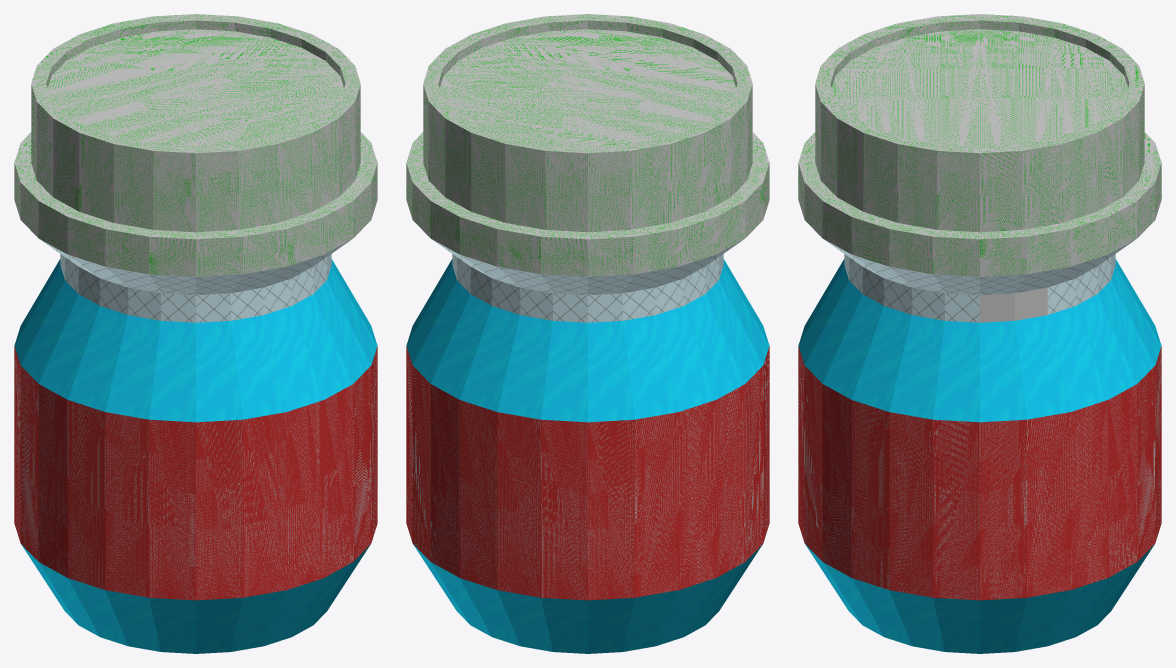
The picture shows the model from 3 angles, left to right: view 1: azimuth 30°, elevation 25°; view 2: azimuth 150°, elevation 25°; view 3: azimuth 270°, elevation 25°; orthographic projection.
Visible parts, largest first — view 1: mesh1_mesh1-geometry; view 2: mesh1_mesh1-geometry; view 3: mesh1_mesh1-geometry.
Part boxes in pixels (left/top/right/bottom): mesh1_mesh1-geometry: left=14, top=14, right=377, bottom=653; mesh1_mesh1-geometry: left=406, top=14, right=769, bottom=653; mesh1_mesh1-geometry: left=798, top=14, right=1161, bottom=653.
Bounding box in the file's own units: 0.4751 × 0.7407 × 0.4751.
